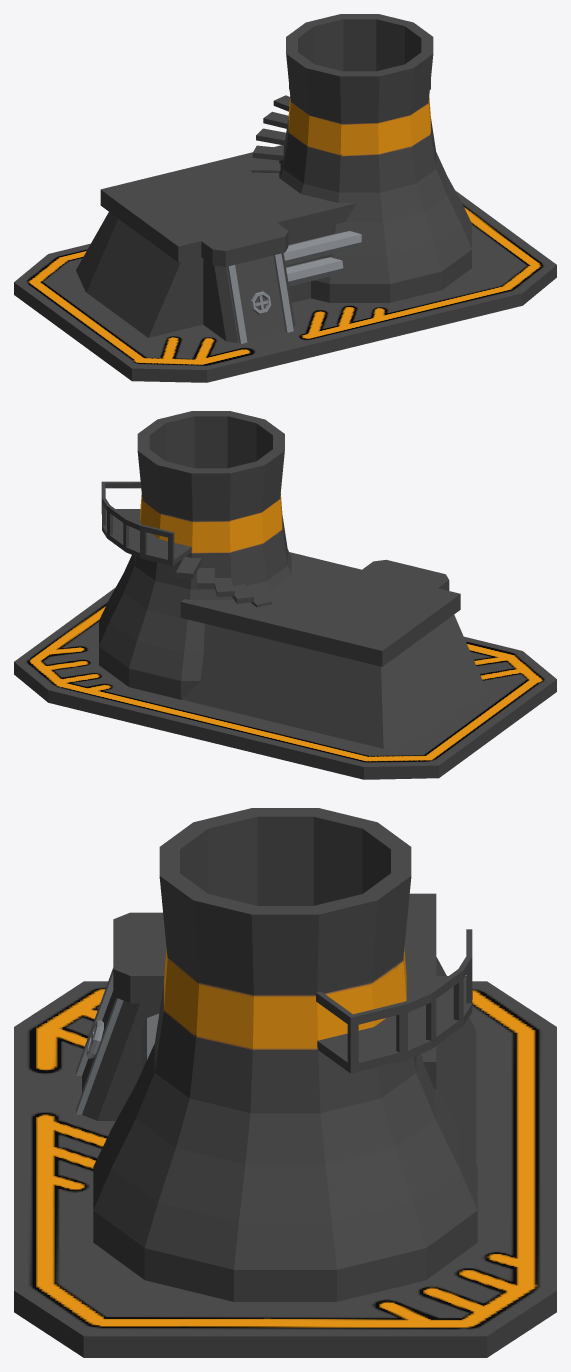
File: Reactor.glb
3 renders of one model, top to bottom at view 1: azimuth 30°, elevation 25°; view 2: azimuth 150°, elevation 25°; view 3: azimuth 270°, elevation 25°, orthographic. The views are drawn at different scales.
Parts seen in each view (by area): view 1: Cube.002, Cube.001, Cube.019, Cube.003, Cube.005, Cube.014, Cube.015, Cube.013, Cube.012; view 2: Cube.002, Cube.001, Cube.003, Cube.019, Cube.005; view 3: Cube.002, Cube.001, Cube.003, Cube.005, Cube.019, Cube.013, Cube.021, Cube.012.
Boxes of the visible parts, x1,y1,x2,y2 form: Cube.002: [279, 14, 471, 302]; Cube.001: [14, 190, 556, 382]; Cube.019: [100, 145, 356, 266]; Cube.003: [76, 212, 334, 342]; Cube.005: [251, 80, 430, 172]; Cube.014: [283, 231, 361, 265]; Cube.015: [286, 257, 343, 286]; Cube.013: [273, 253, 293, 332]; Cube.012: [227, 265, 247, 343]; Cube.002: [99, 411, 291, 699]; Cube.001: [14, 587, 556, 779]; Cube.003: [183, 615, 485, 748]; Cube.019: [180, 552, 460, 666]; Cube.005: [101, 481, 272, 607]; Cube.002: [93, 808, 477, 1301]; Cube.001: [14, 981, 556, 1357]; Cube.003: [82, 957, 476, 1163]; Cube.005: [316, 929, 472, 1073]; Cube.019: [113, 893, 436, 1089]; Cube.013: [76, 998, 123, 1114]; Cube.021: [347, 1001, 407, 1026]; Cube.012: [76, 968, 113, 1075].
Size of the model in its own units: 6.44 by 3.22 by 4.16.
2 materials, 2 textured.
